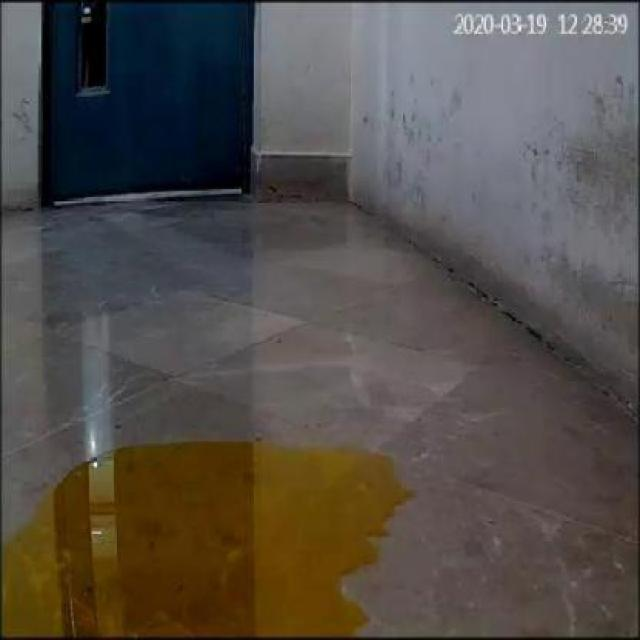spillage: (4, 442, 414, 638)
